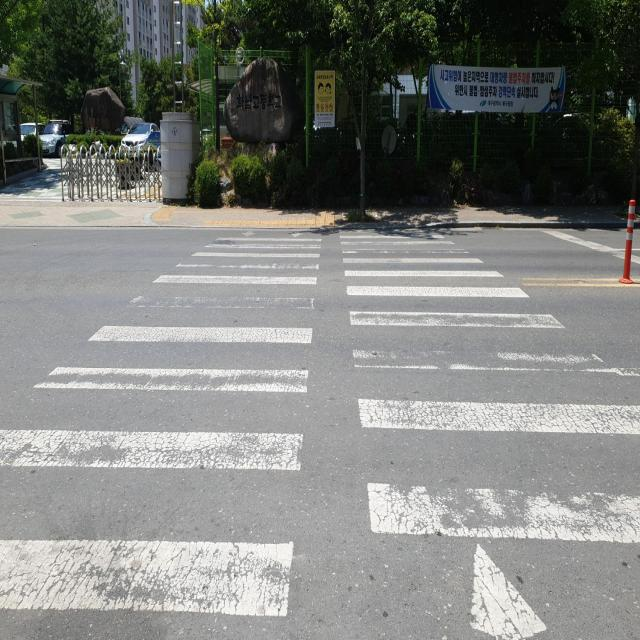횡단보도: (1, 219, 640, 636)
